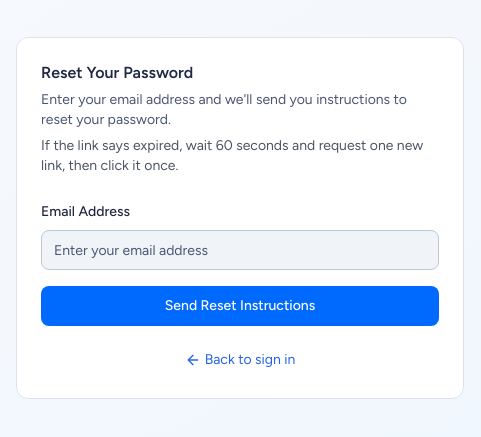
it: forgot password › after sending: the spam folder and Gmail hint
Type "person@example.test" into the field labelled "Email Address" at (240, 250), box left=41, top=230, right=439, bottom=270
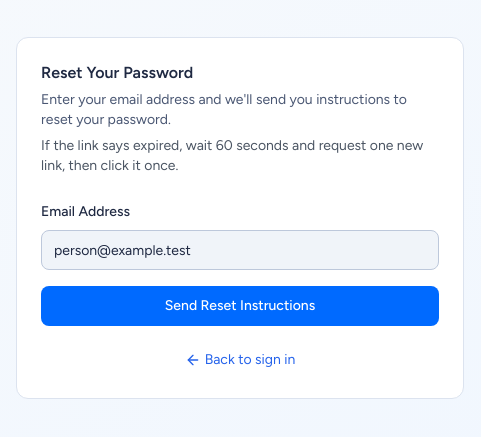
Click the button "Send Reset Instructions" at (240, 306), box left=41, top=286, right=439, bottom=326
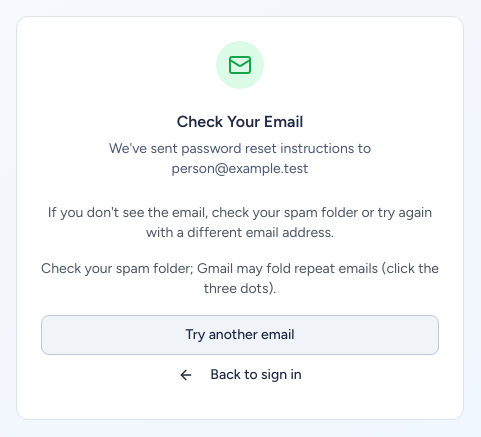
Check: the text with test id "reset-email-hint" reads "Check your spam folder; Gmail may fold repeat emails (click the three dots).", box left=41, top=260, right=439, bottom=297
